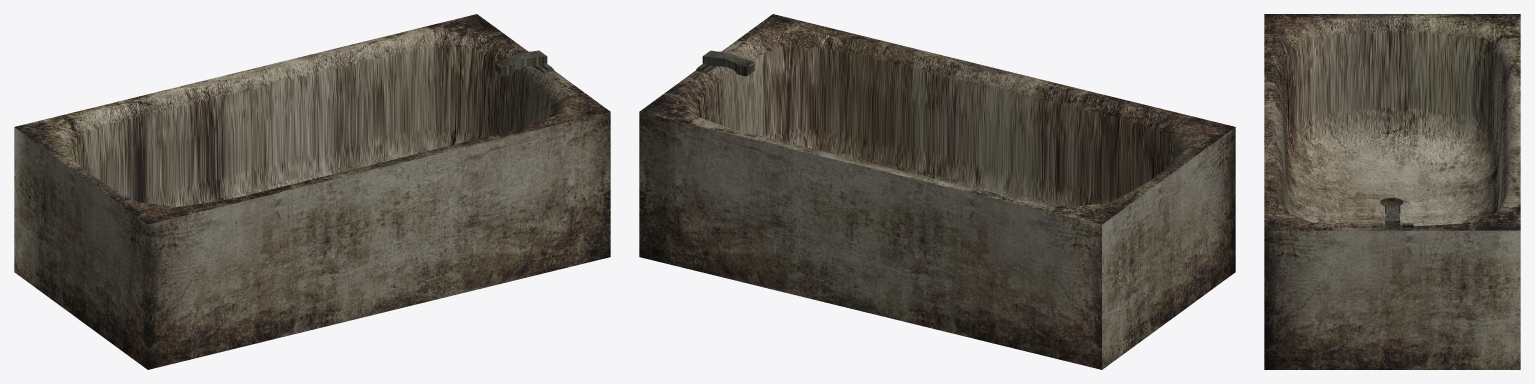
File: bano_bathtub.glb
3 renders of one model, left to right at view 1: azimuth 30°, elevation 25°; view 2: azimuth 150°, elevation 25°; view 3: azimuth 270°, elevation 25°, orthographic. The views are drawn at different scales.
Parts seen in each view (by area): view 1: Object_2; view 2: Object_2; view 3: Object_2.
Boxes of the visible parts, x1,y1,x2,y2 form: Object_2: (14, 14, 610, 369); Object_2: (639, 14, 1235, 369); Object_2: (1264, 14, 1520, 369).
Size of the model in its own units: 2.15 by 0.7 by 1.08.
1 material, 1 textured.
